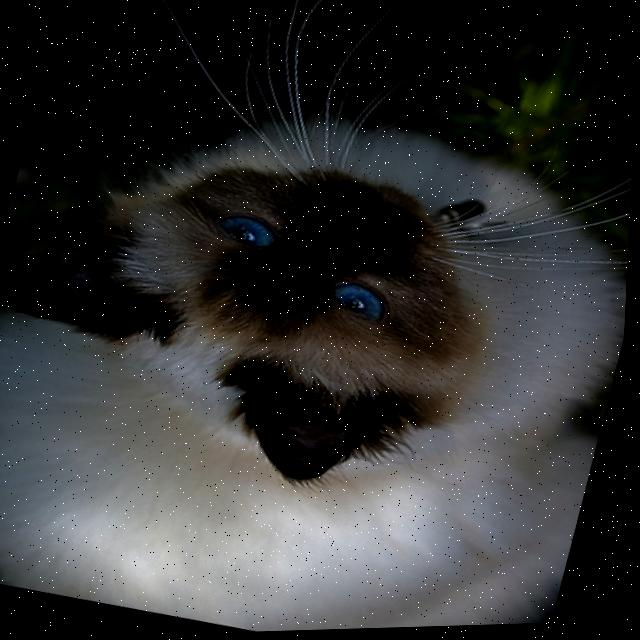Birman: (0, 40, 638, 640)
